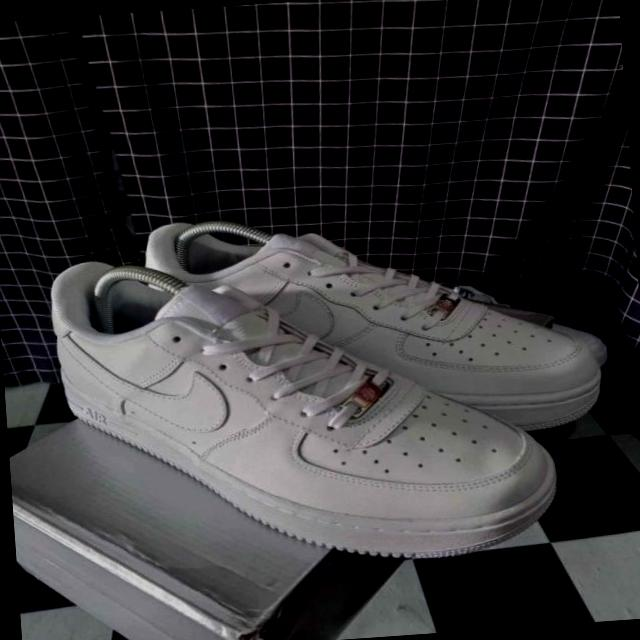nike_fake_airforce: (36, 234, 568, 584), (130, 202, 616, 463)
